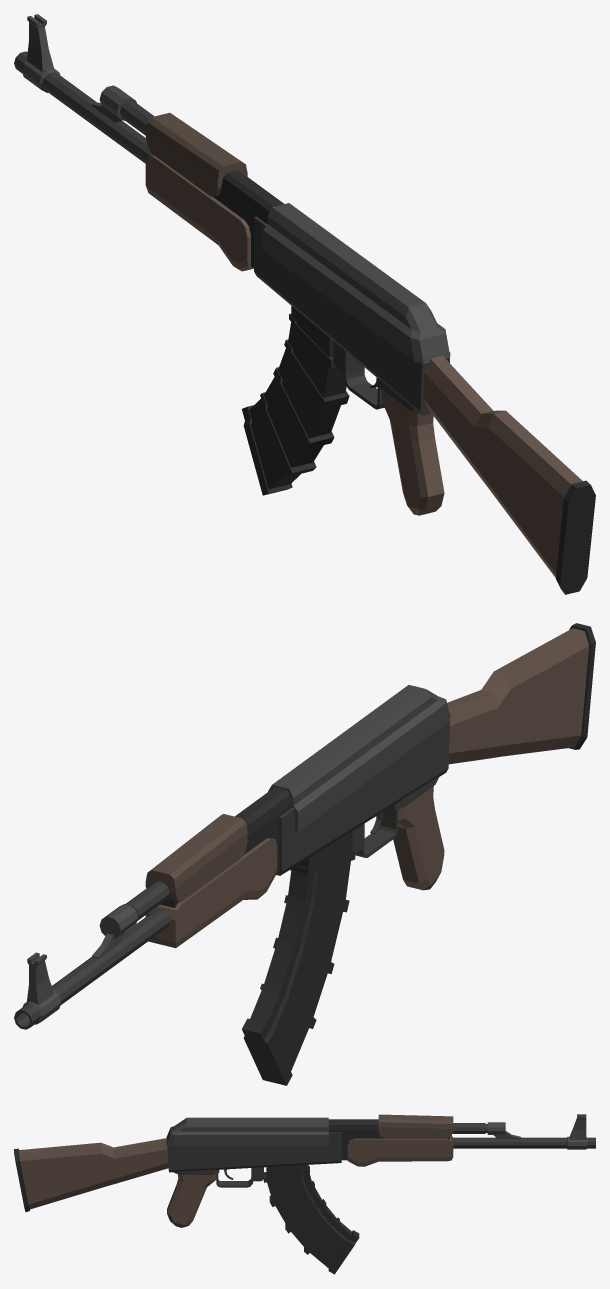
The model's file is assault_rifle_1.glb.
3 renders of one model, top to bottom at view 1: azimuth 30°, elevation 25°; view 2: azimuth 150°, elevation 25°; view 3: azimuth 270°, elevation 25°, orthographic. The views are drawn at different scales.
Parts seen in each view (by area): view 1: AssaultRifle_1; view 2: AssaultRifle_1; view 3: AssaultRifle_1.
Part boxes in pixels (box(x1,y1,x2,y2)): AssaultRifle_1: box(14, 14, 595, 594); AssaultRifle_1: box(14, 623, 595, 1085); AssaultRifle_1: box(14, 1114, 595, 1274).
Bounding box in the file's own units: 0.0317 × 0.2588 × 0.8764.
